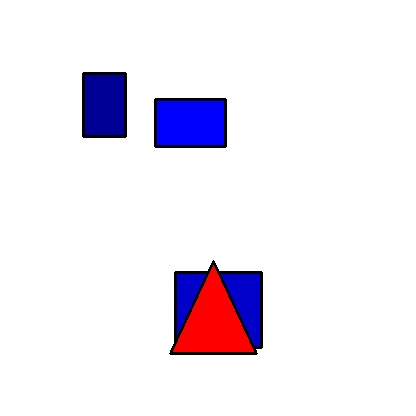rectangle: (175, 272, 261, 347), (155, 99, 225, 146), (83, 73, 125, 136)
triangle: (170, 261, 256, 353)
